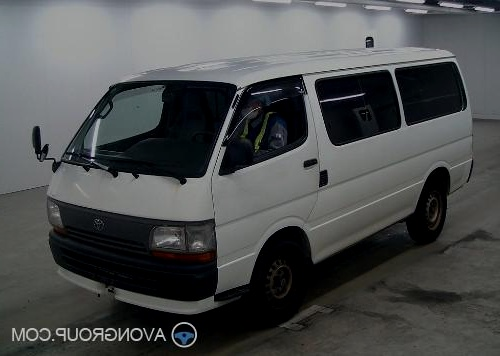van: (35, 36, 467, 311)
